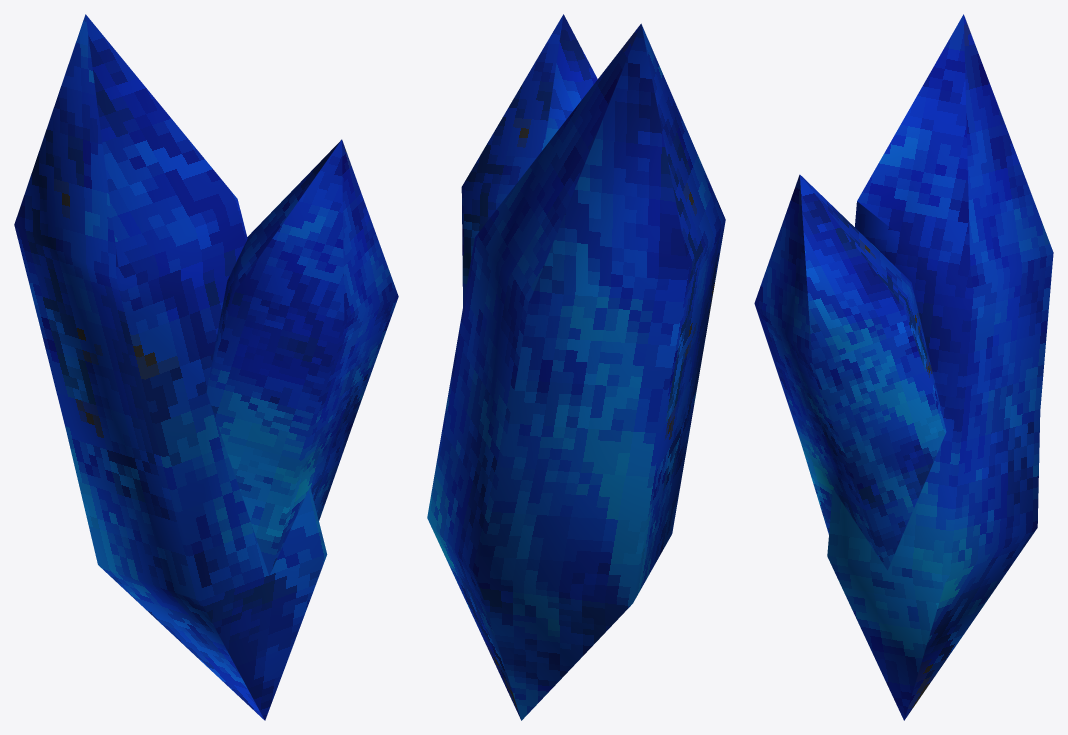
The model's file is OUBLIETTECRYSTAL2.fbx.
3 views of the same model, side by side, from view 1: azimuth 30°, elevation 25°; view 2: azimuth 150°, elevation 25°; view 3: azimuth 270°, elevation 25° (orthographic). The views are drawn at different scales.
Visible parts, largest first — view 1: OUBLIETTECRYSTAL2; view 2: OUBLIETTECRYSTAL2; view 3: OUBLIETTECRYSTAL2.
Part boxes in pixels (<box>): OUBLIETTECRYSTAL2: <box>14,14,398,720</box>; OUBLIETTECRYSTAL2: <box>427,14,725,720</box>; OUBLIETTECRYSTAL2: <box>754,14,1053,720</box>.
Bounding box in the file's own units: 2627 × 6295 × 2654.
Materials: 1 (1 with a texture image).
